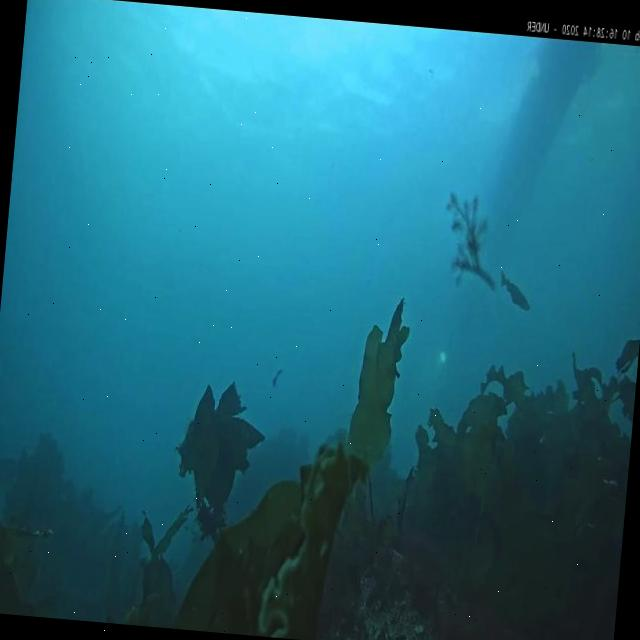fish: (498, 270, 533, 312)
